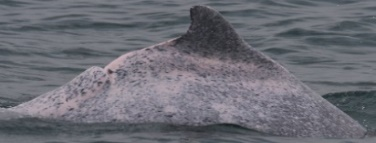fin: (12, 3, 369, 139)
